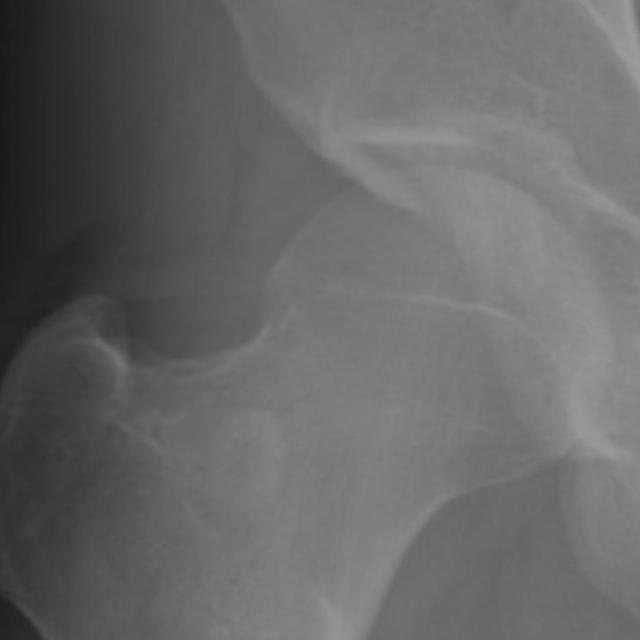Fitted_femural_head: (337, 165, 432, 337)
